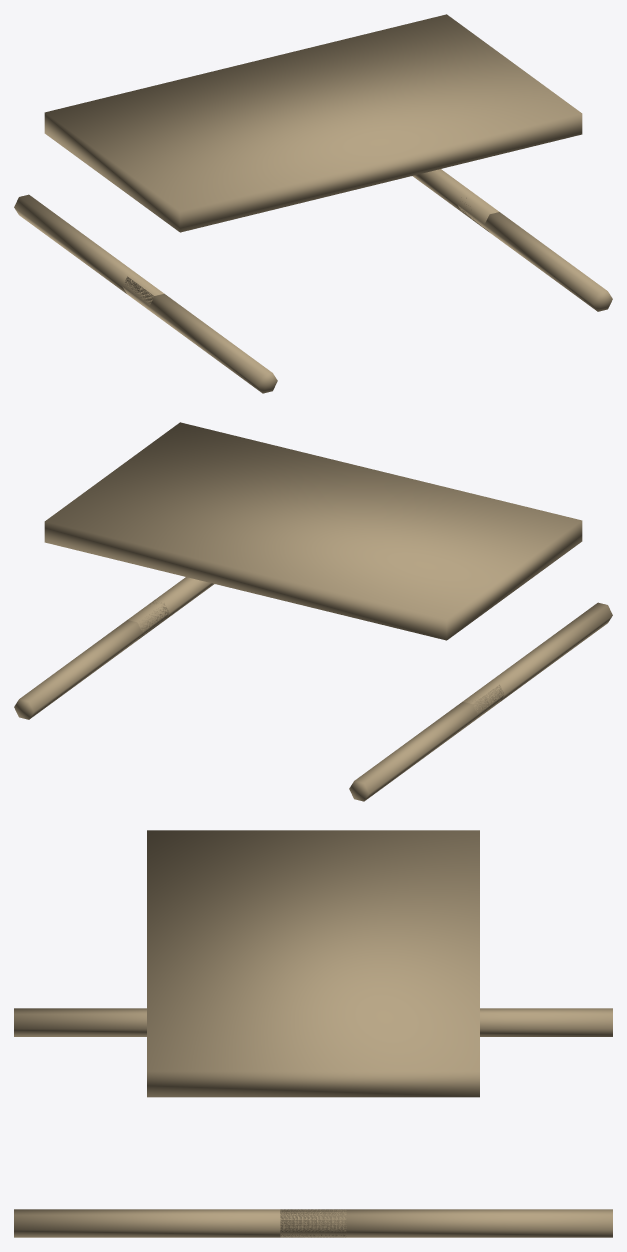
File: furn_table.glb
3 renders of one model, top to bottom at view 1: azimuth 30°, elevation 25°; view 2: azimuth 150°, elevation 25°; view 3: azimuth 270°, elevation 25°, orthographic. The views are drawn at different scales.
Parts seen in each view (by area): view 1: top, leg_-0.5_0.28, leg_-0.5_-0.28, leg_0.5_0.28, leg_0.5_-0.28; view 2: top, leg_-0.5_-0.28, leg_-0.5_0.28, leg_0.5_-0.28, leg_0.5_0.28; view 3: top, leg_0.5_-0.28, leg_0.5_0.28, leg_-0.5_-0.28, leg_-0.5_0.28.
Boxes of the visible parts, x1,y1,x2,y2 form: top: (44,14,582,232); leg_-0.5_0.28: (123,276,277,393); leg_-0.5_-0.28: (14,194,163,306); leg_0.5_0.28: (458,198,612,311); leg_0.5_-0.28: (412,169,499,232); top: (44,422,582,640); leg_-0.5_-0.28: (349,684,503,801); leg_-0.5_0.28: (463,602,612,713); leg_0.5_-0.28: (14,600,169,719); leg_0.5_0.28: (127,577,214,640); top: (147,830,479,1097); leg_0.5_-0.28: (280,1209,612,1237); leg_0.5_0.28: (14,1209,346,1237); leg_-0.5_-0.28: (480,1008,612,1036); leg_-0.5_0.28: (14,1008,146,1036).
Bounding box in the file's own units: 1.2 × 0.426 × 1.26.
